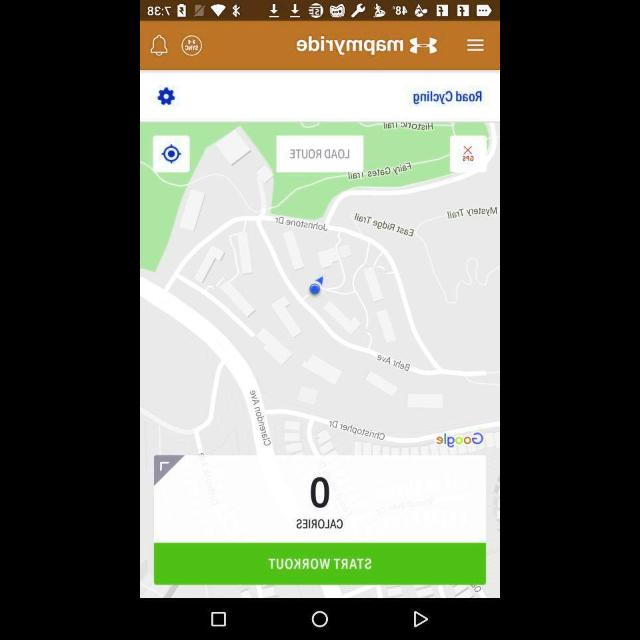icon: (434, 432, 484, 448), (181, 34, 203, 56), (161, 144, 181, 166), (150, 34, 168, 58), (157, 87, 176, 107), (310, 611, 330, 629), (466, 36, 486, 54), (412, 611, 430, 629), (211, 613, 227, 627)
map: (140, 122, 498, 456)
panel: (155, 455, 485, 583), (141, 598, 499, 638)
text: (290, 32, 440, 58), (411, 88, 483, 106), (269, 558, 371, 570), (310, 476, 330, 508), (294, 518, 346, 530)
textbutton: (155, 542, 485, 584)
toolbar: (140, 20, 500, 70)
uppertaskbar: (141, 2, 499, 20)
